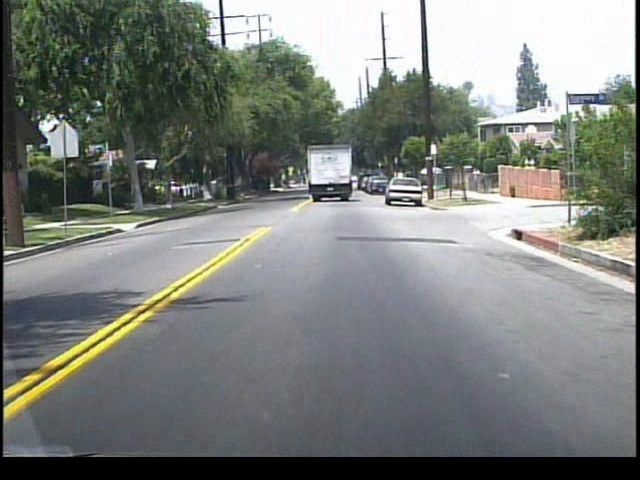person: (471, 166, 482, 193)
